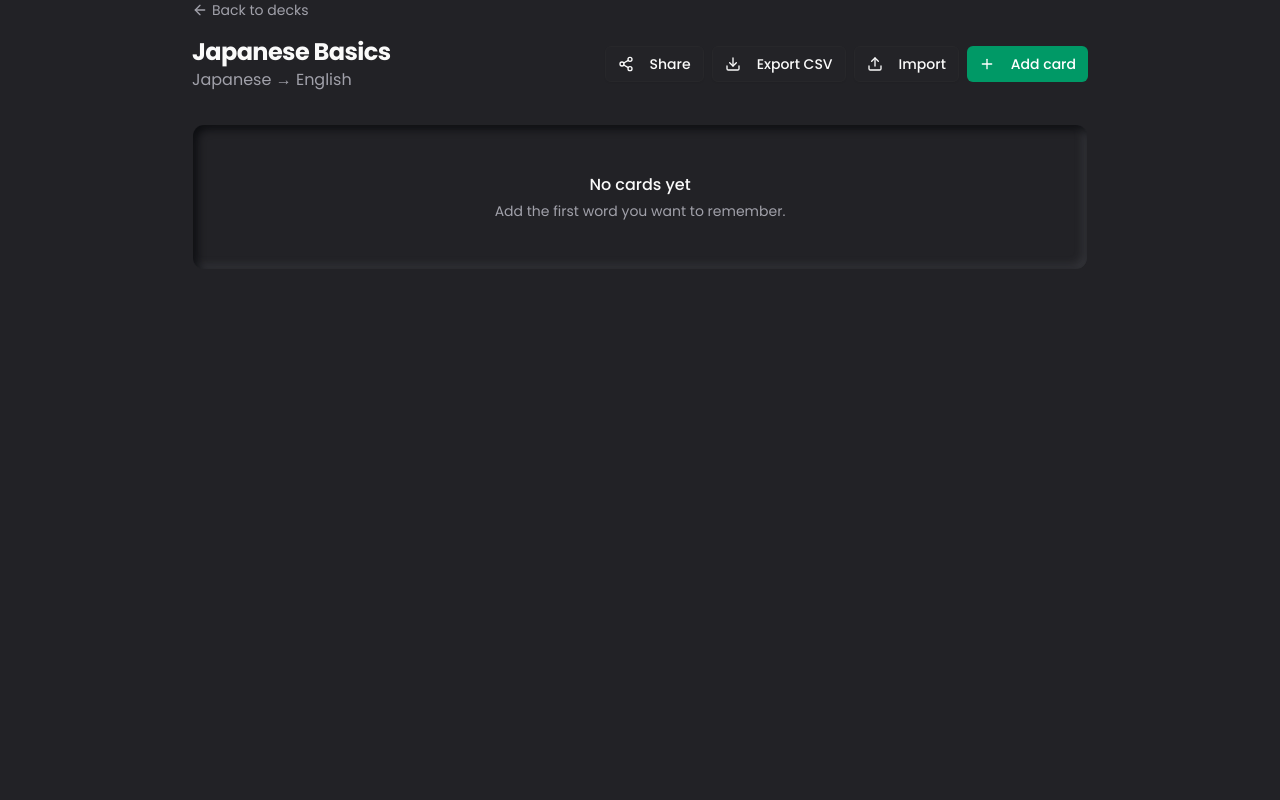
Test: DeckDetailPage › enables sharing and shows the link
Step 1. Click the button "Share" → (654, 64), box [605,46,704,82]
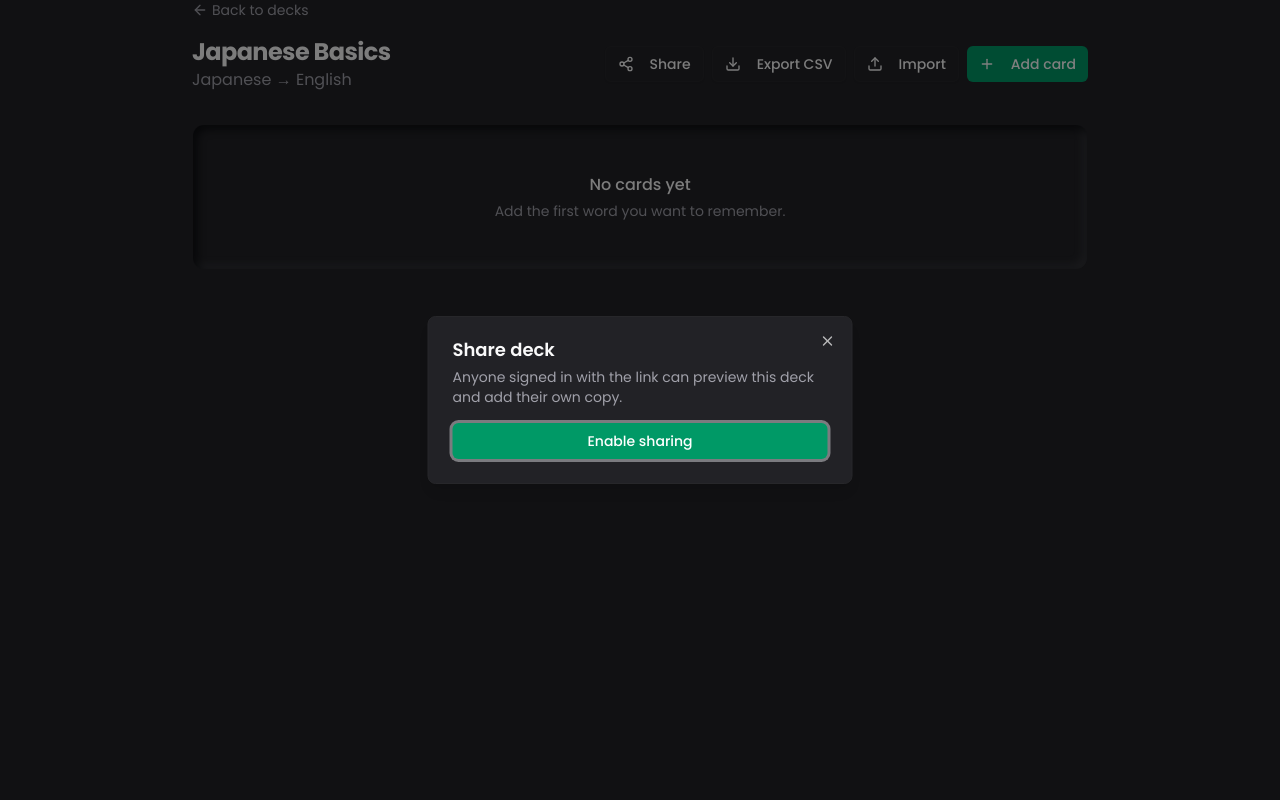
Step 2. Click the button "Enable sharing" → (640, 441), box [452,423,828,459]
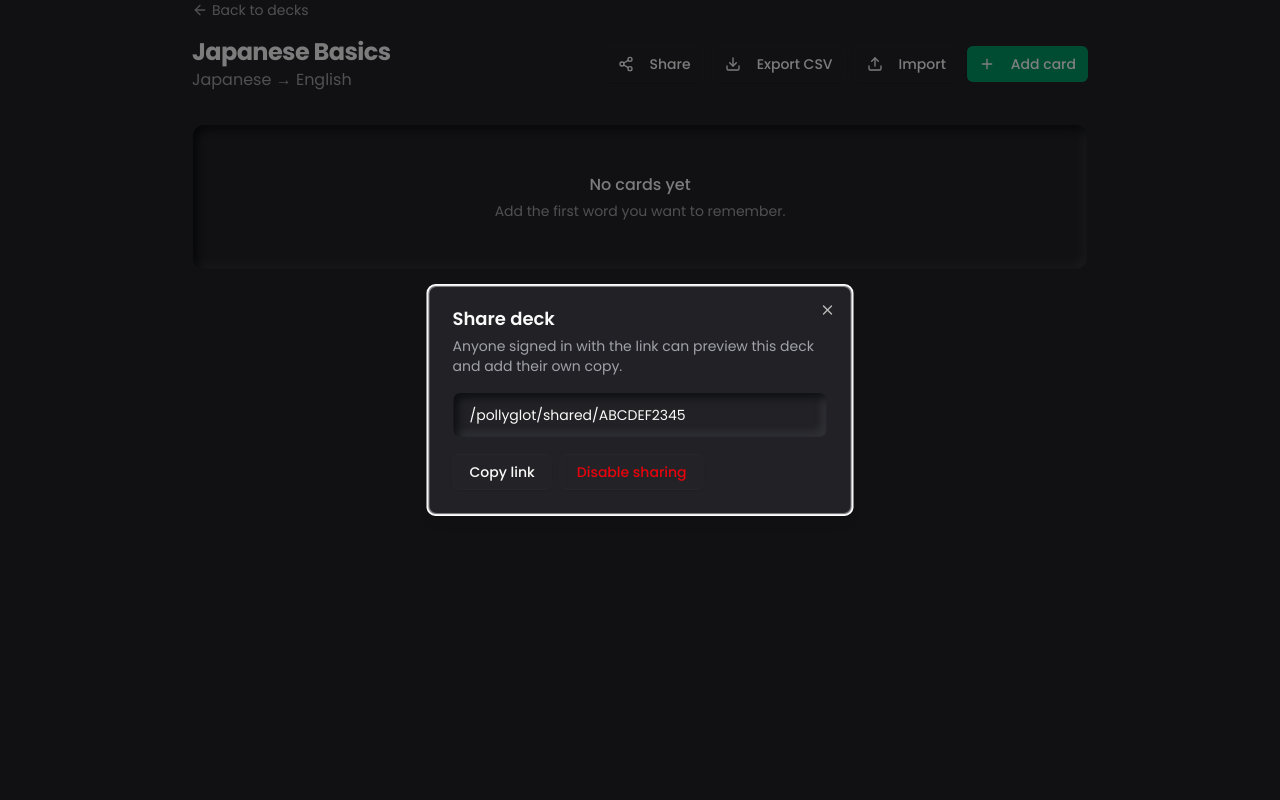
Now the text "/pollyglot/shared/ABCDEF2345" is shown, box [452,392,828,438]
